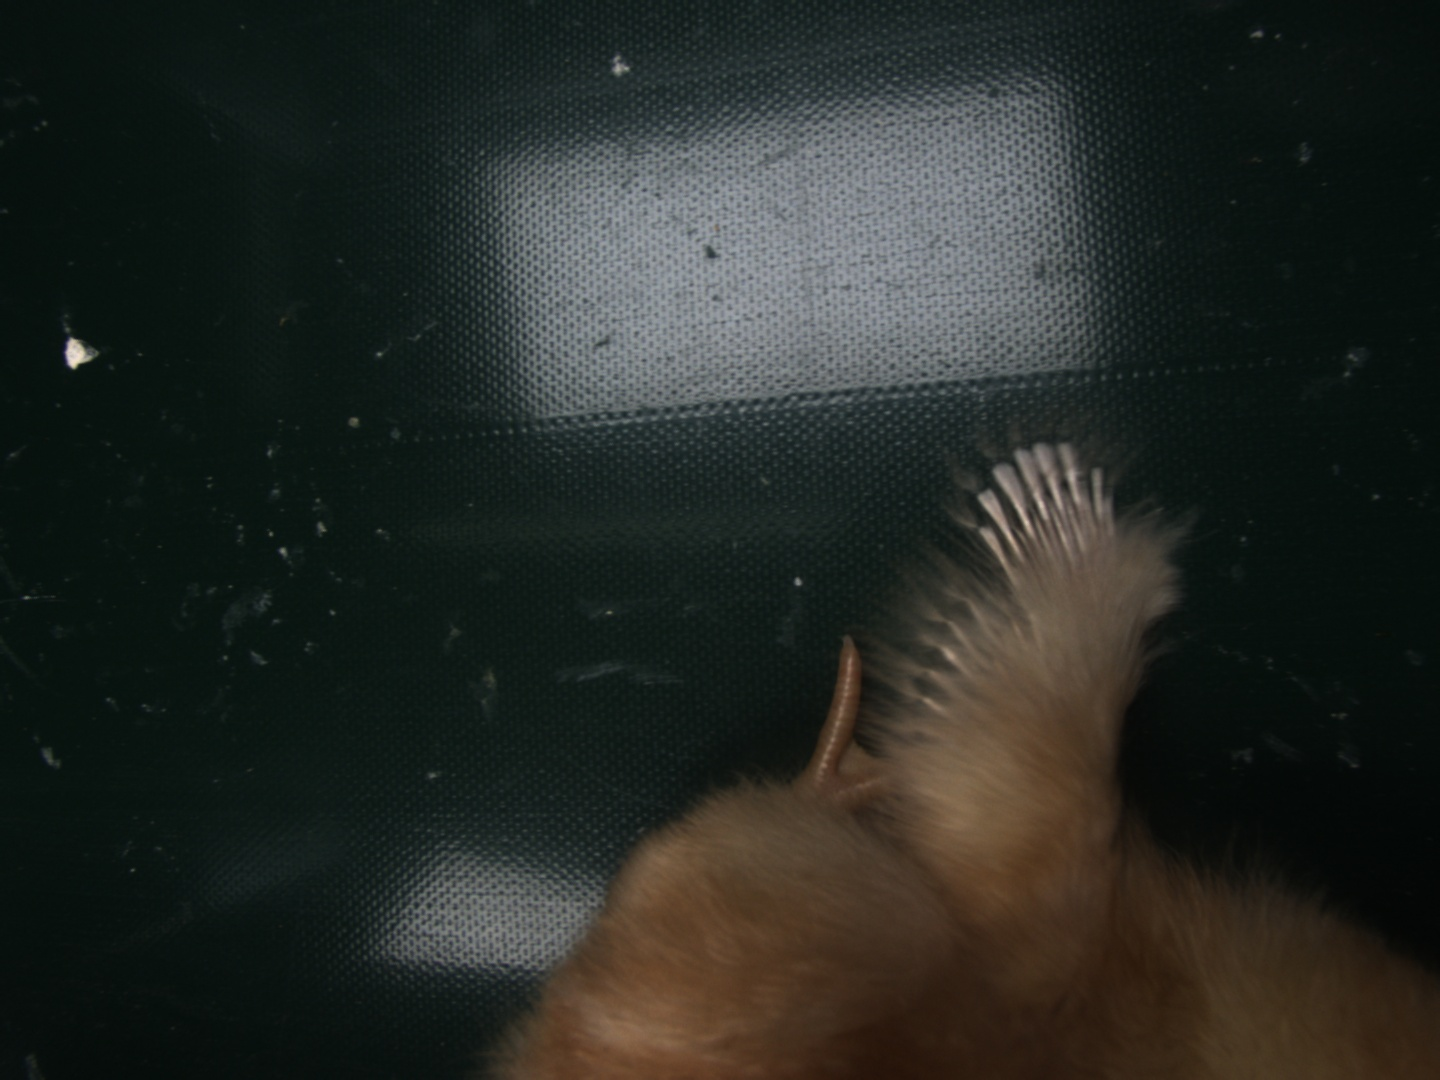female: (965, 438, 1121, 596)
